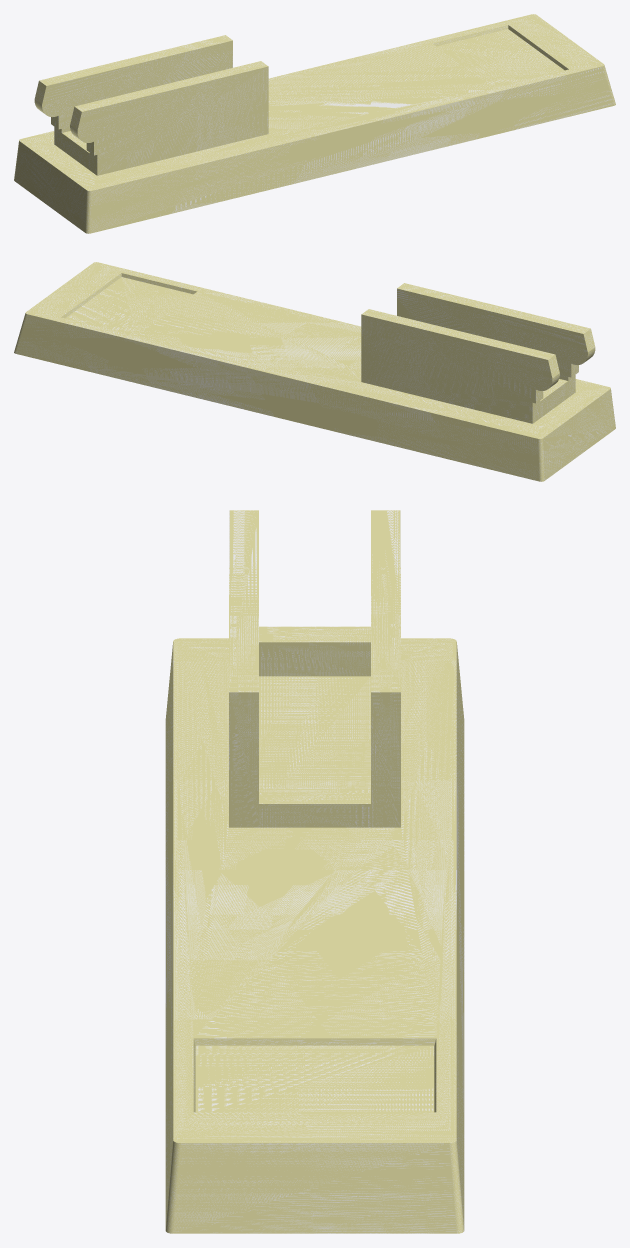
Rendered from original-5.obj.
The picture shows the model from 3 angles, top to bottom: view 1: azimuth 30°, elevation 25°; view 2: azimuth 150°, elevation 25°; view 3: azimuth 270°, elevation 25°; orthographic projection. The views are drawn at different scales.
Parts seen in each view (by area): view 1: Group6/mesh5/mesh5-geometry#mesh5-geometry; view 2: Group6/mesh5/mesh5-geometry#mesh5-geometry; view 3: Group6/mesh5/mesh5-geometry#mesh5-geometry.
Part boxes in pixels (bbox=[...]): Group6/mesh5/mesh5-geometry#mesh5-geometry: bbox=[14, 14, 615, 233]; Group6/mesh5/mesh5-geometry#mesh5-geometry: bbox=[14, 262, 615, 481]; Group6/mesh5/mesh5-geometry#mesh5-geometry: bbox=[165, 510, 464, 1233].
Size of the model in its own units: 1.87 by 0.3652 by 0.4565.
